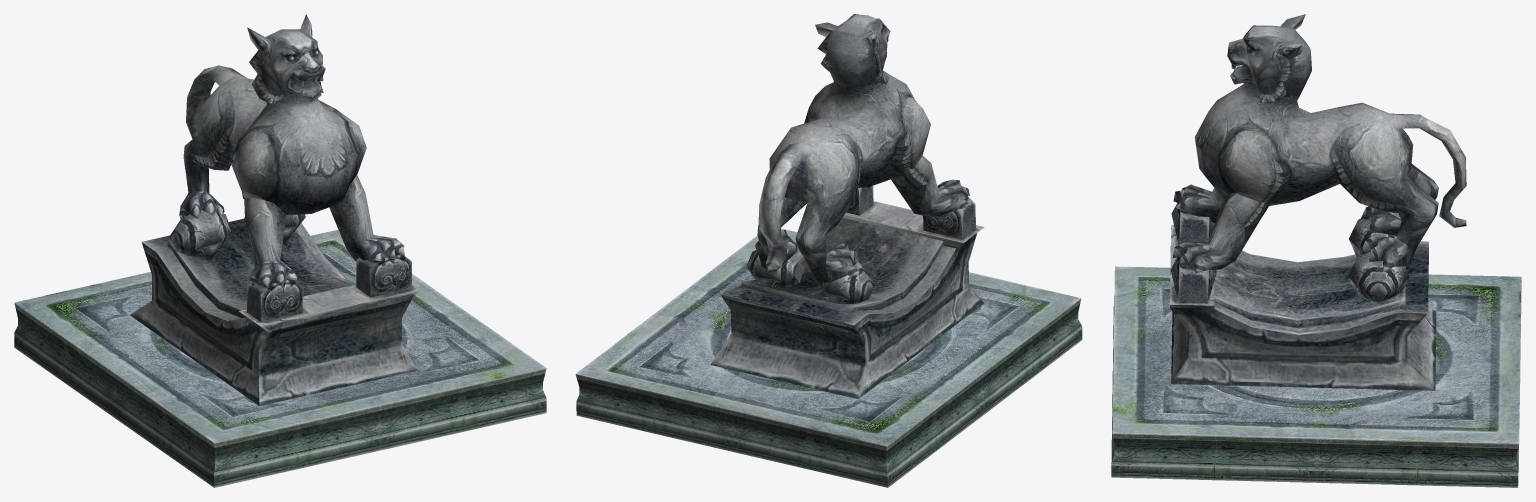
Rendered from ShiXiang02.FBX.
3 views of the same model, side by side, from view 1: azimuth 30°, elevation 25°; view 2: azimuth 150°, elevation 25°; view 3: azimuth 270°, elevation 25° (orthographic). The views are drawn at different scales.
Visible parts, largest first — view 1: DrawCall_0205, DrawCall_0247, 对象03; view 2: DrawCall_0205, DrawCall_0247, 对象03; view 3: DrawCall_0205, DrawCall_0247, 对象03.
Boxes of the visible parts, <box> form: DrawCall_0205: <box>130,14,419,405</box>; DrawCall_0247: <box>14,229,545,442</box>; 对象03: <box>14,303,546,487</box>; DrawCall_0205: <box>710,14,984,399</box>; DrawCall_0247: <box>576,228,1080,446</box>; 对象03: <box>575,298,1082,487</box>; DrawCall_0205: <box>1170,14,1466,390</box>; DrawCall_0247: <box>1112,266,1521,443</box>; 对象03: <box>1111,296,1518,487</box>.
Bounding box in the file's own units: 6 × 6.39 × 6.36.
